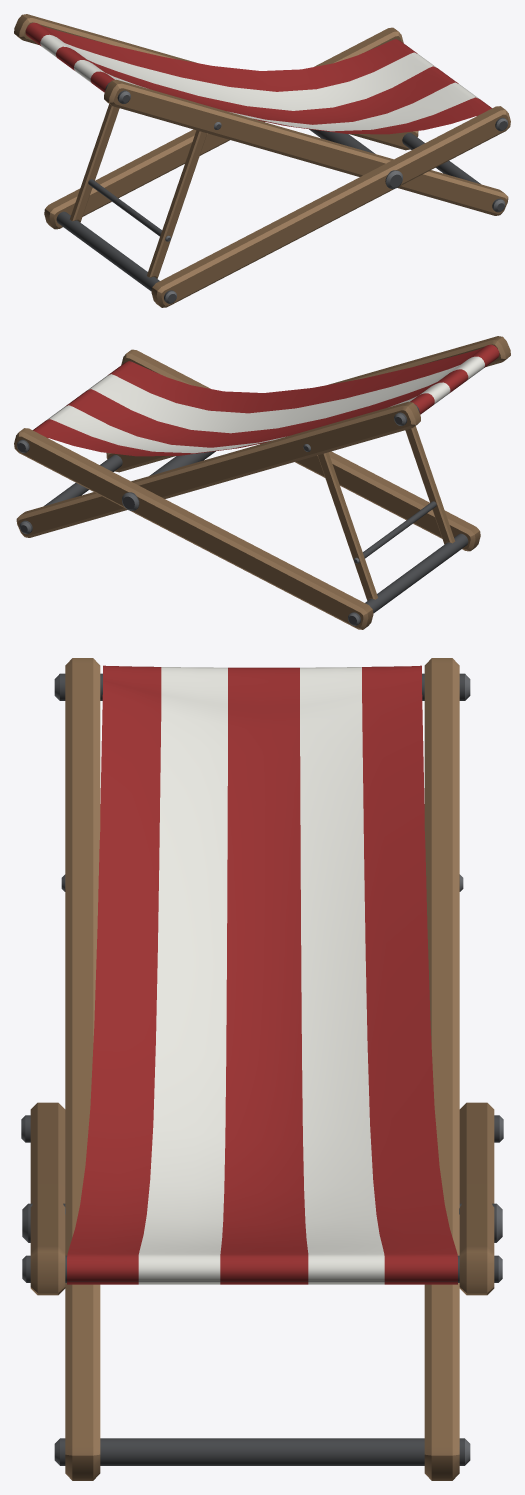
The model's file is beachChair.fbx.
3 views of the same model, one above another, from view 1: azimuth 30°, elevation 25°; view 2: azimuth 150°, elevation 25°; view 3: azimuth 270°, elevation 25° (orthographic). The views are drawn at different scales.
Visible parts, largest first — view 1: beachChair; view 2: beachChair; view 3: beachChair.
Boxes of the visible parts, x1,y1,x2,y2 form: beachChair: (14, 14, 510, 307); beachChair: (14, 336, 510, 629); beachChair: (21, 658, 503, 1480).
Bounding box in the file's own units: 11.4 × 6.18 × 5.96.
